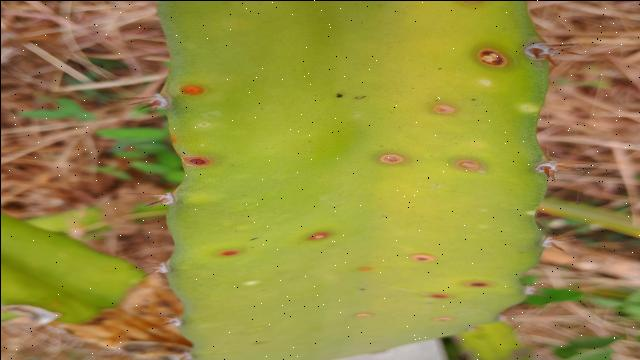stemcanker: (477, 46, 509, 72), (452, 153, 488, 174), (180, 151, 214, 173), (405, 248, 441, 267), (180, 78, 211, 100), (301, 227, 338, 245), (430, 99, 460, 119), (377, 149, 406, 169), (214, 244, 245, 261), (462, 276, 493, 292)
